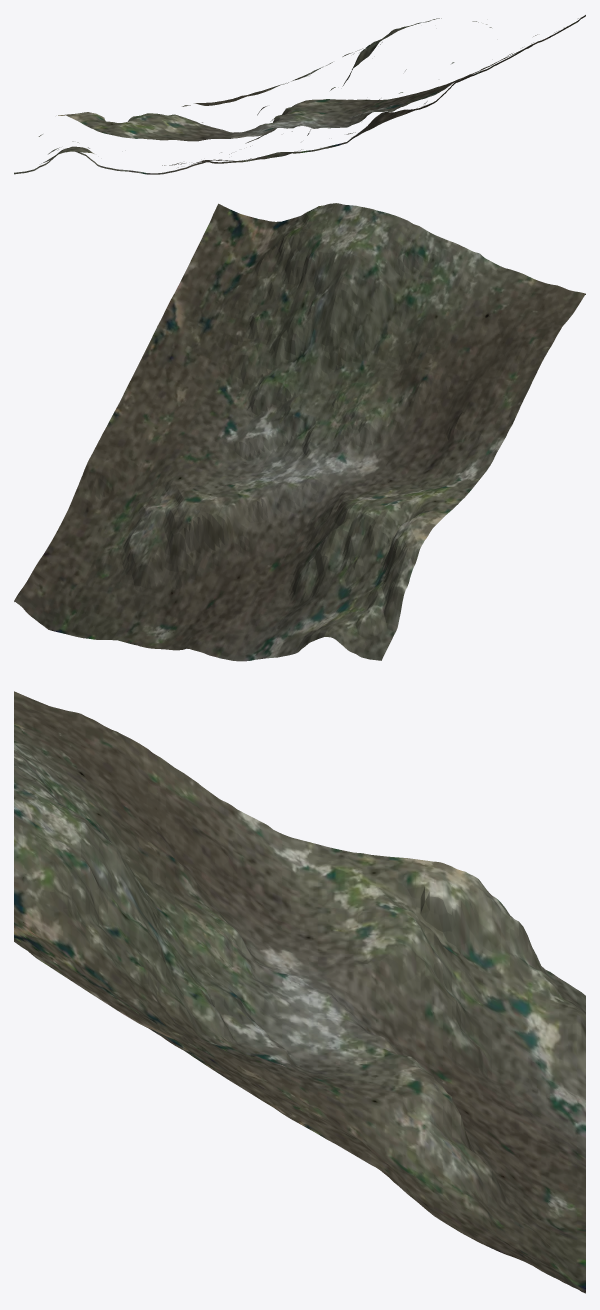
3 renders of one model, top to bottom at view 1: azimuth 30°, elevation 25°; view 2: azimuth 150°, elevation 25°; view 3: azimuth 270°, elevation 25°, orthographic. The views are drawn at different scales.
Size of the model in its own units: 250 by 196 by 241.
Materials: 1 (1 with a texture image).
